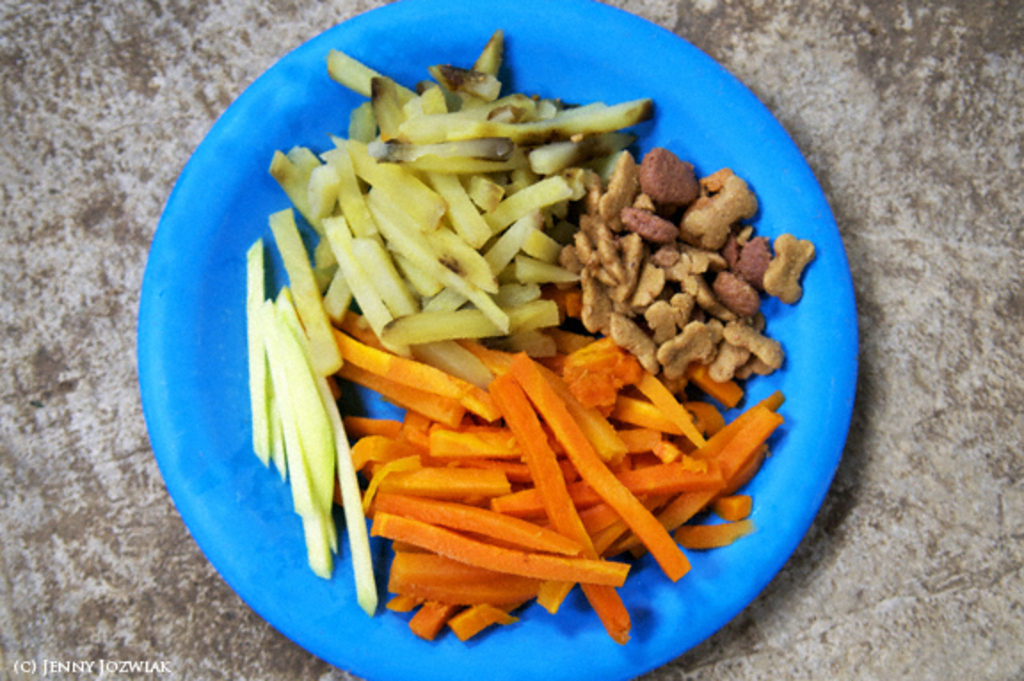French fries: (270, 23, 656, 387), (346, 341, 766, 611)
